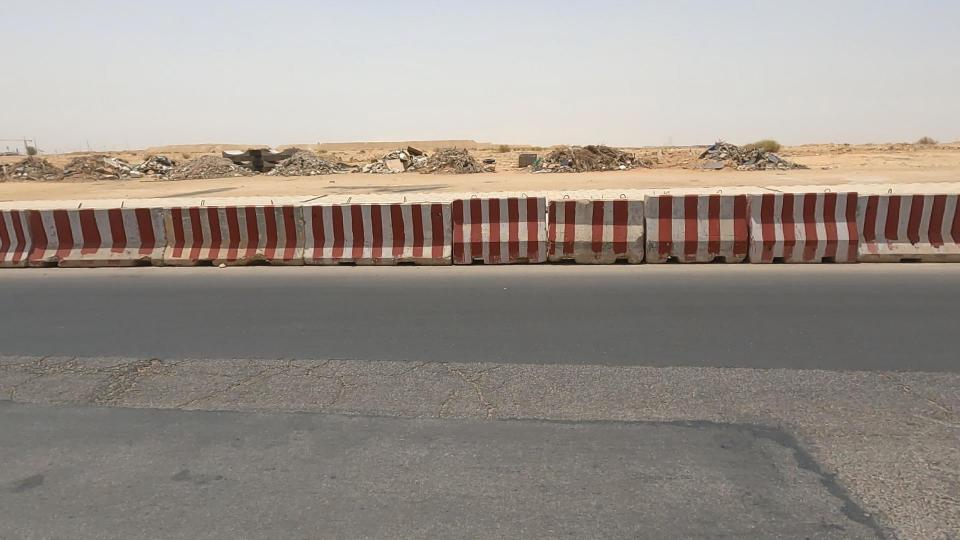CONSTRUCTION_ROAD: (461, 139, 960, 331), (0, 149, 356, 348), (201, 157, 560, 329)
GARBAGE: (467, 123, 705, 203), (633, 112, 849, 191), (310, 118, 522, 195), (159, 112, 317, 205), (236, 119, 371, 204), (0, 119, 116, 214), (91, 126, 193, 197), (65, 141, 165, 204)
